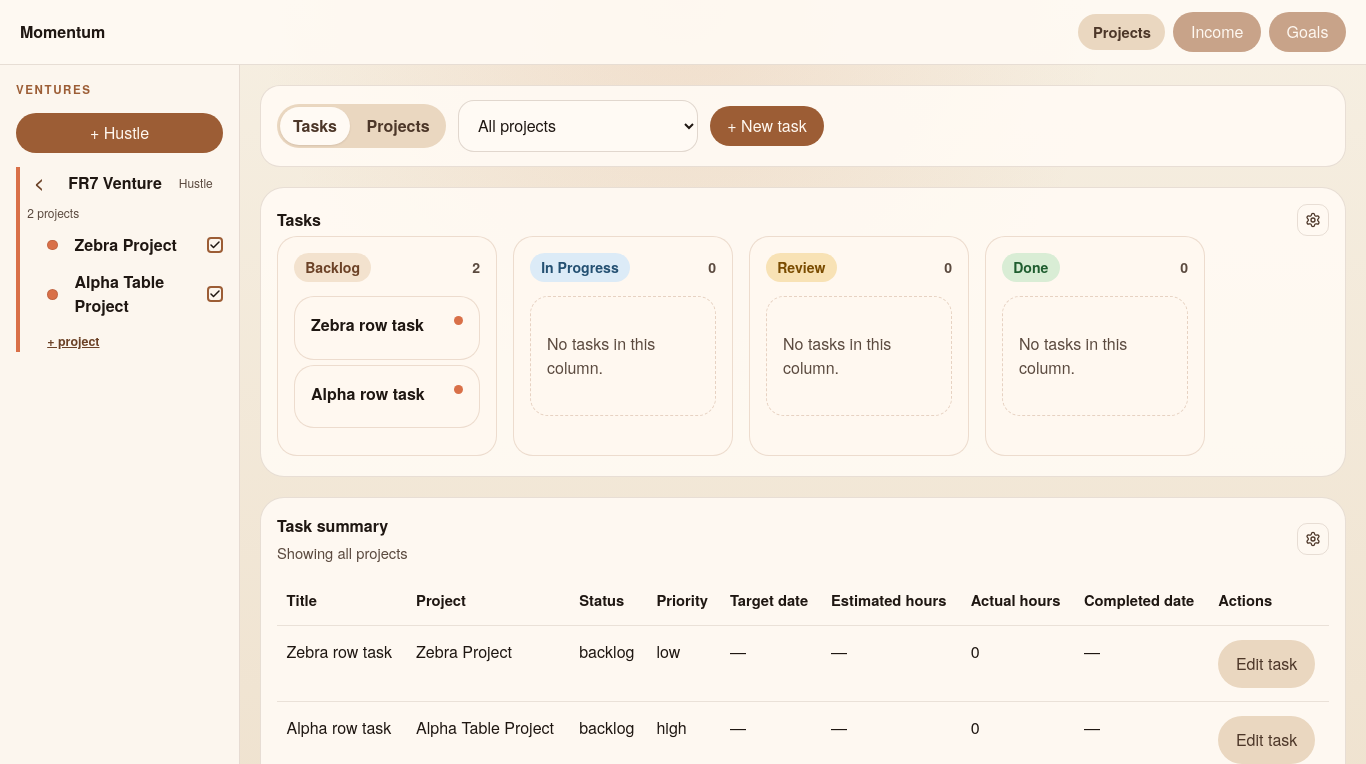
FR-7 task board controller orchestration (integration) › combines board display options with task summary sort and row-open behaviour on the same workspace surface
Check: the button "Zebra row task" is shown, box 311,313 -> 424,337
Check: the button "Alpha row task" is shown, box 311,382 -> 425,406
Click the button named "board options" at (1313, 220), box 1297,204 -> 1329,236
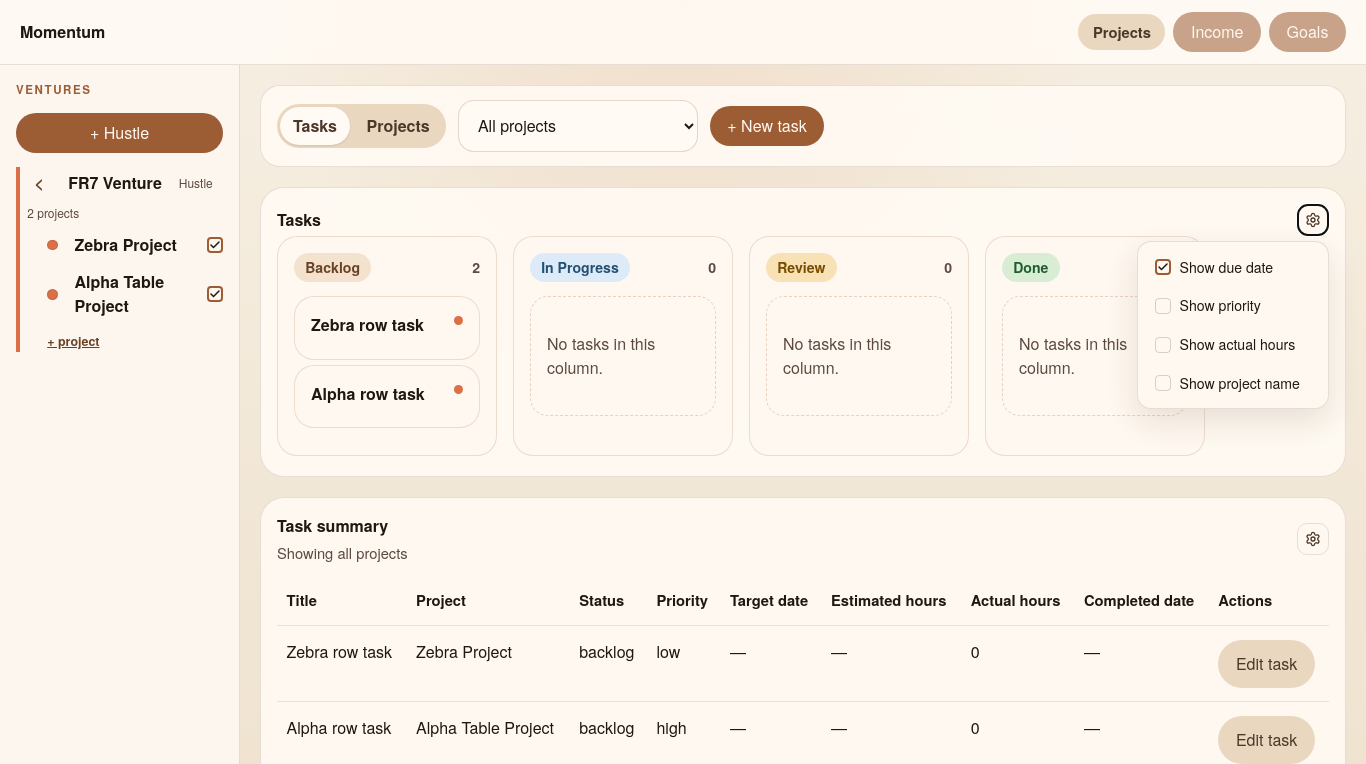
Click the menu item "Show priority" at (1233, 306), box 1144,287 -> 1322,325
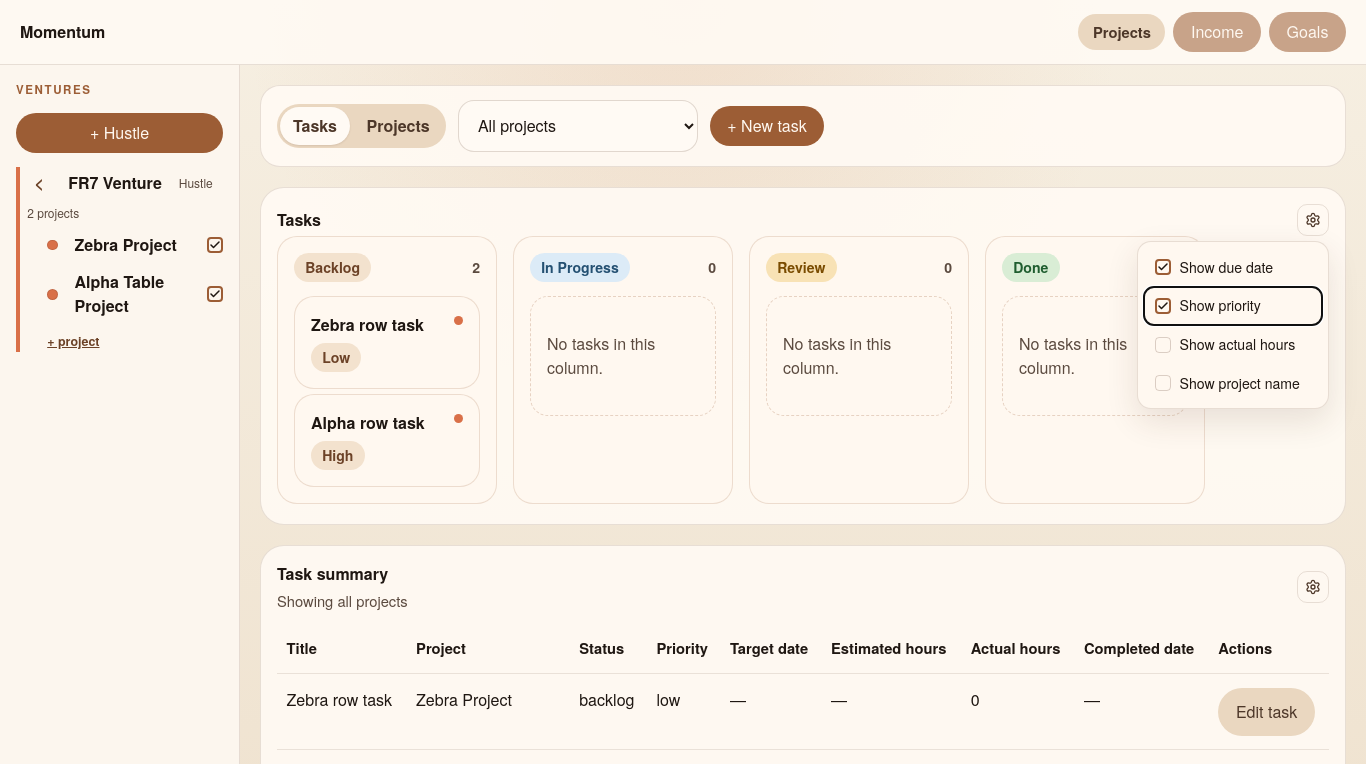
Check: the text "low" is shown, box 311,343 -> 361,372
Click the button with test id "table-sort-gear" at (1313, 587), box 1297,571 -> 1329,603
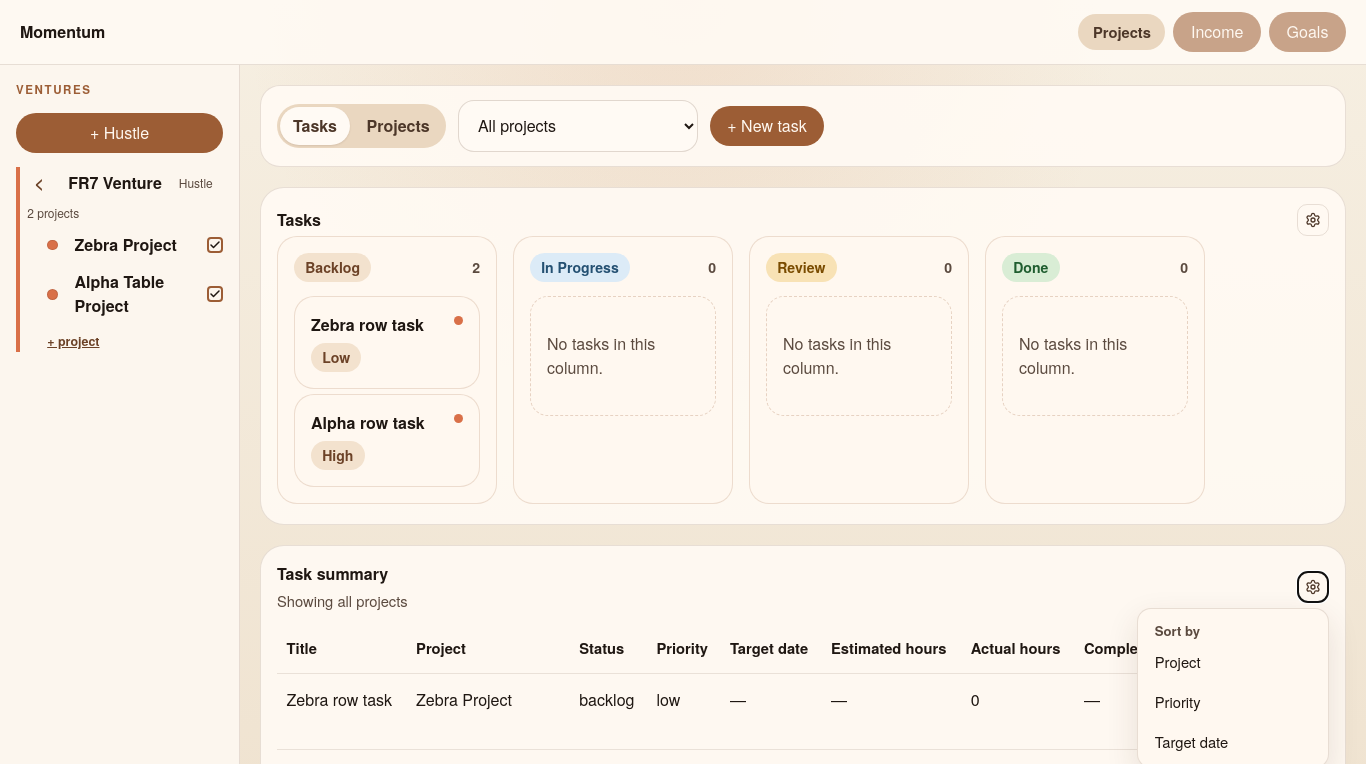
Click the menu item "Project" at (1233, 662), box 1144,643 -> 1322,682
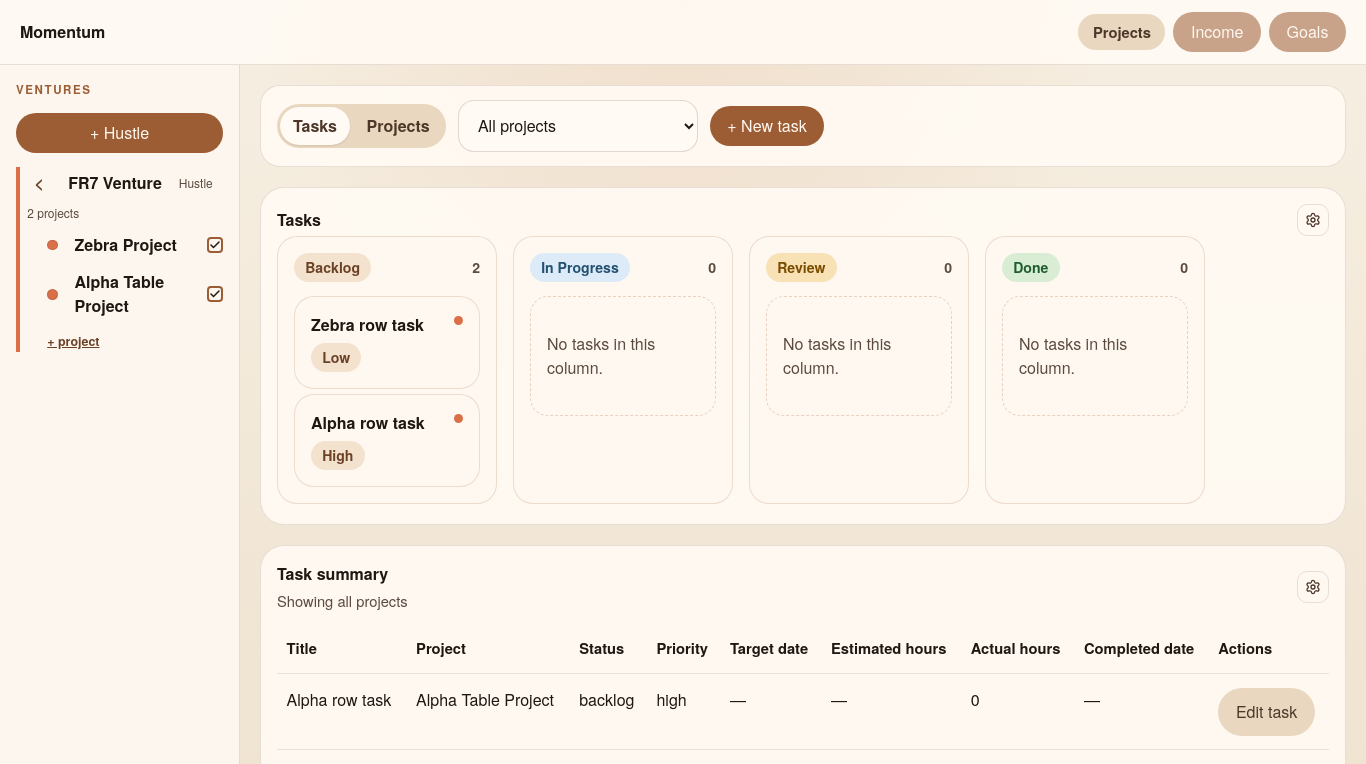
Click the button with aria-label "edit task alpha row task" at (1267, 712), box 1218,688 -> 1315,736
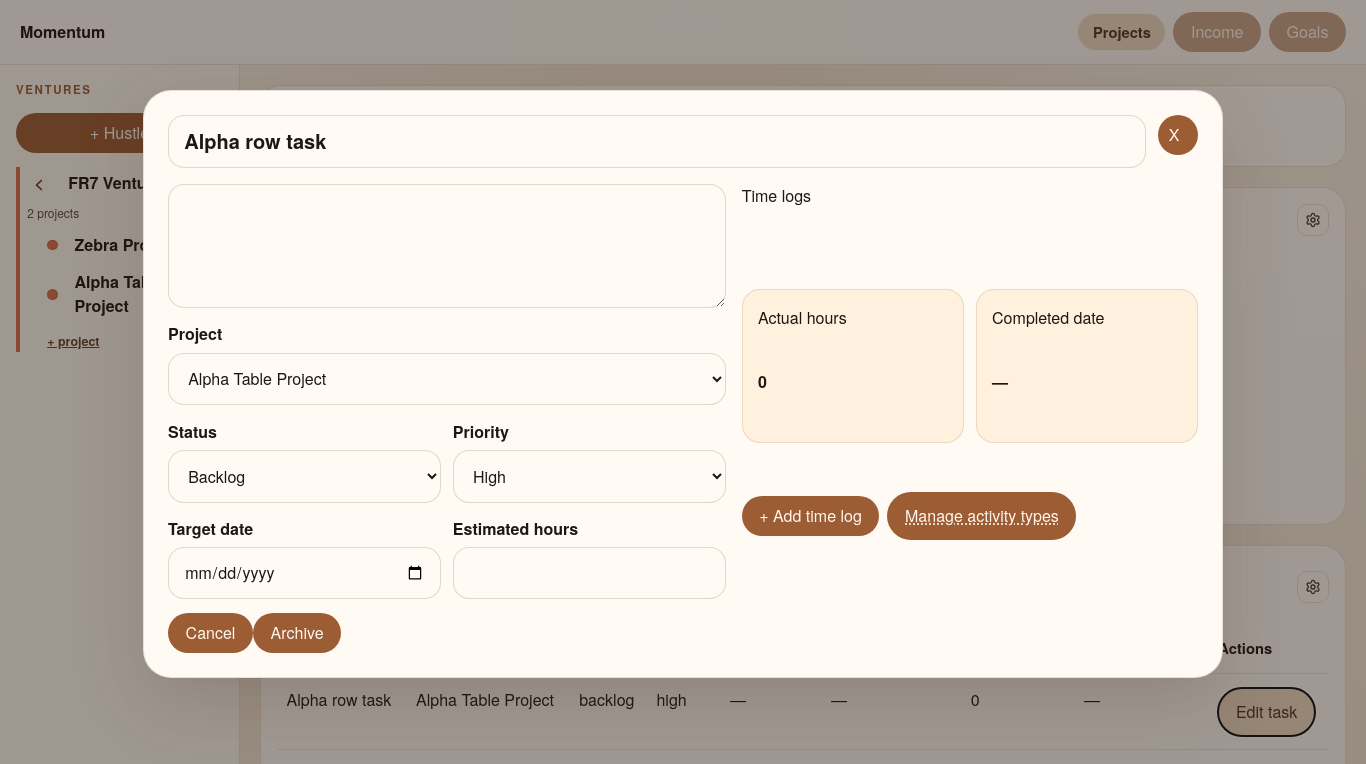
Check: the dialog named "edit task" is shown
